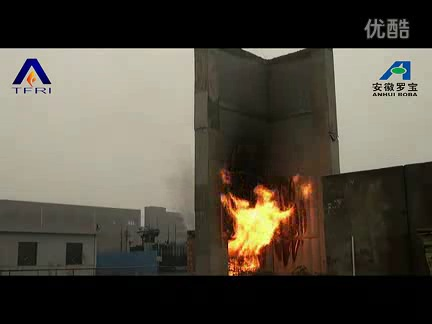fire: (214, 174, 298, 275)
